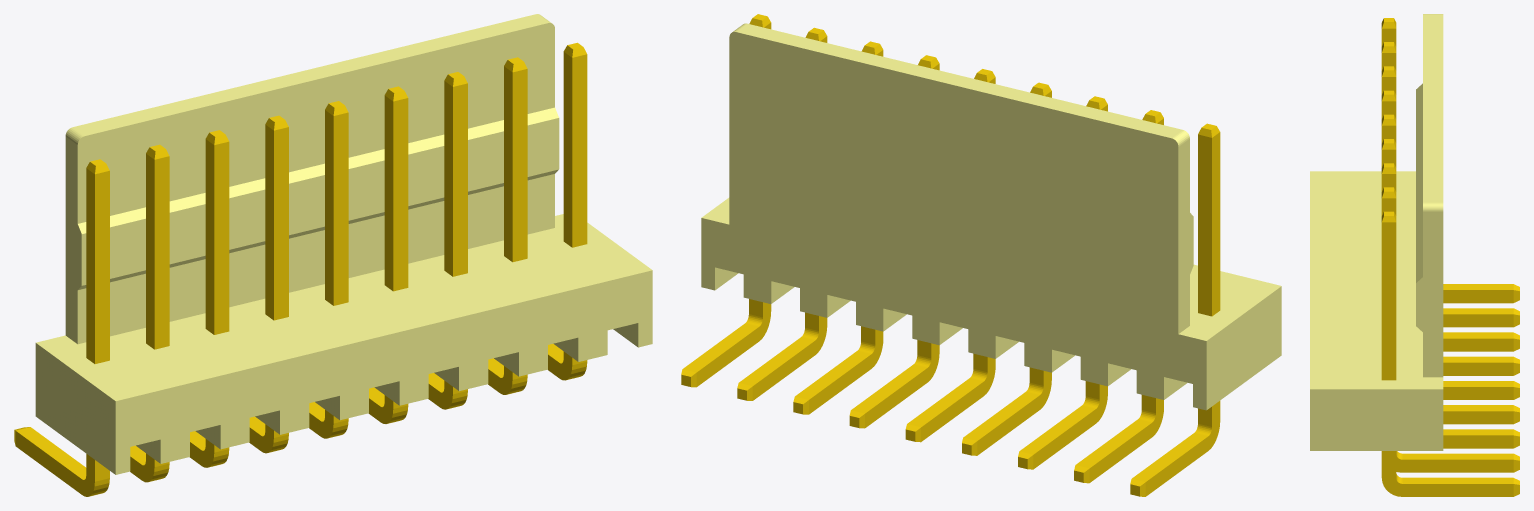
Rendered from DS1070-9MR (WF-9RA CONNFLY).obj.
3 views of the same model, side by side, from view 1: azimuth 30°, elevation 25°; view 2: azimuth 150°, elevation 25°; view 3: azimuth 270°, elevation 25° (orthographic). The views are drawn at different scales.
Visible parts, largest first — view 1: DS1070-9MR_(WF-9RA_CONNFLY); view 2: DS1070-9MR_(WF-9RA_CONNFLY); view 3: DS1070-9MR_(WF-9RA_CONNFLY).
Boxes of the visible parts, x1,y1,x2,y2 form: DS1070-9MR_(WF-9RA_CONNFLY): [14, 14, 652, 496]; DS1070-9MR_(WF-9RA_CONNFLY): [681, 14, 1281, 496]; DS1070-9MR_(WF-9RA_CONNFLY): [1310, 14, 1519, 496].
Bounding box in the file's own units: 0.0196 × 0.0121 × 0.00797.
